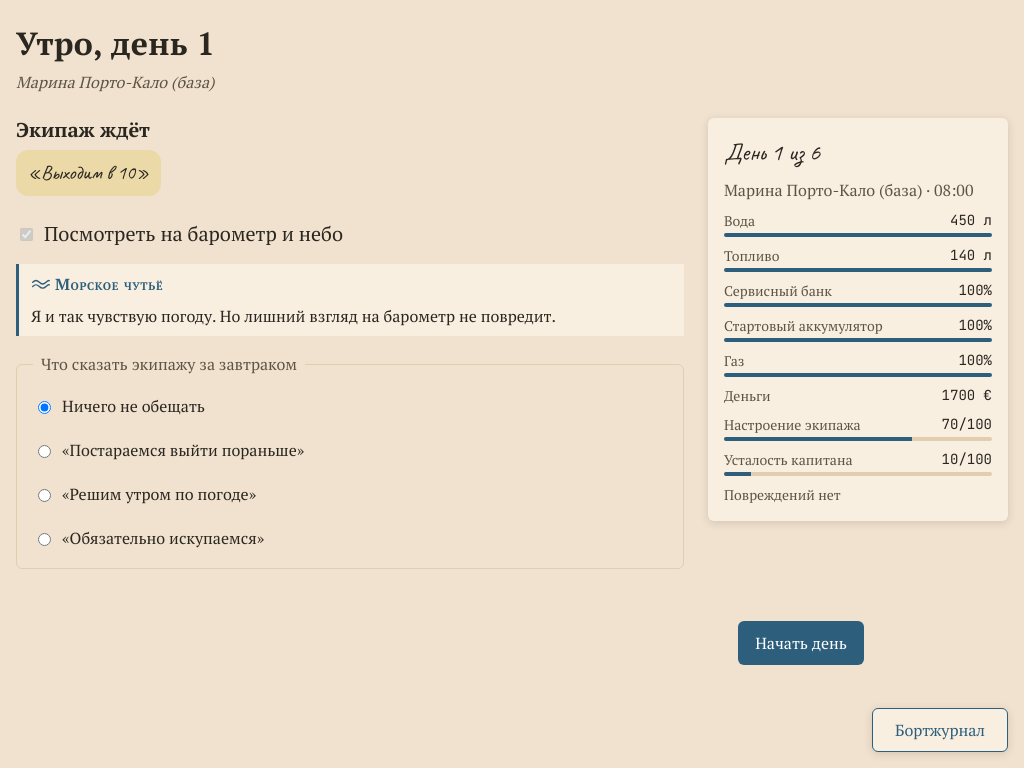
LogbookDrawer › switches the language mid-game from the drawer header
Expected: the button "Начать день" is shown, [738, 621, 864, 665]
Step 1. Click the button "Бортжурнал" → (940, 730), box [872, 708, 1008, 752]
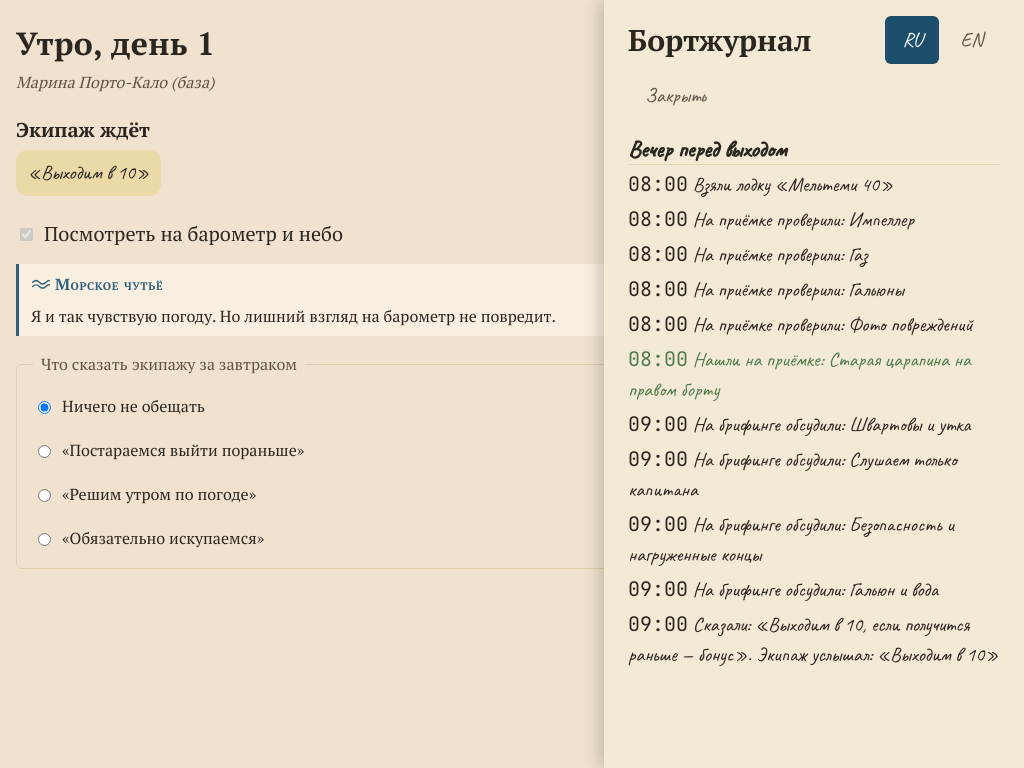
Step 2. Click the button "EN" → (972, 40), box [943, 16, 1000, 64]
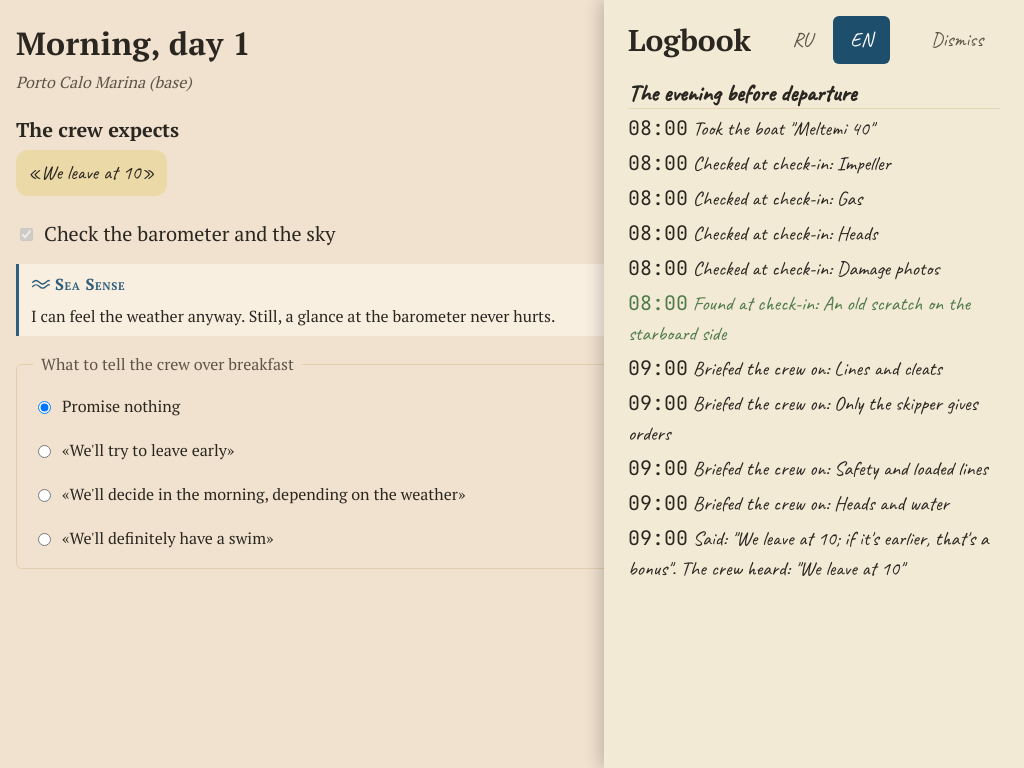
Now the dialog "Logbook" is shown, box [604, 0, 1023, 767]
Now the button "Начать день" is gone
